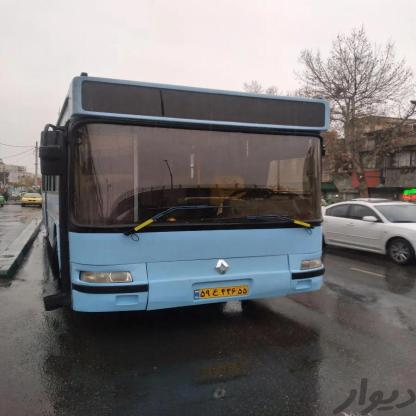Bus: (42, 74, 333, 328)
Car: (327, 186, 416, 263), (14, 193, 40, 208)
